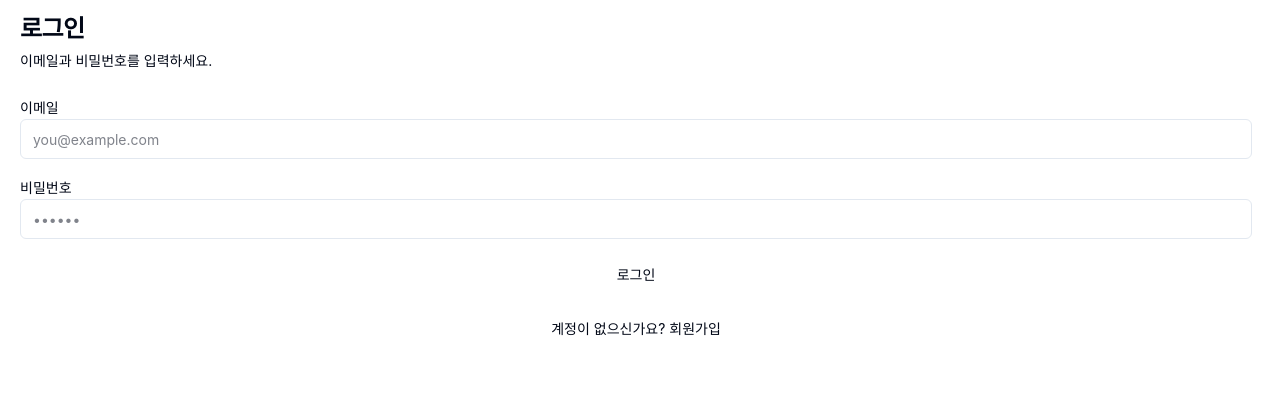
LoginPage › form validation › shows validation errors when submitted empty
Click the button "로그인".
click(636, 275)  # box [20,255,1252,295]
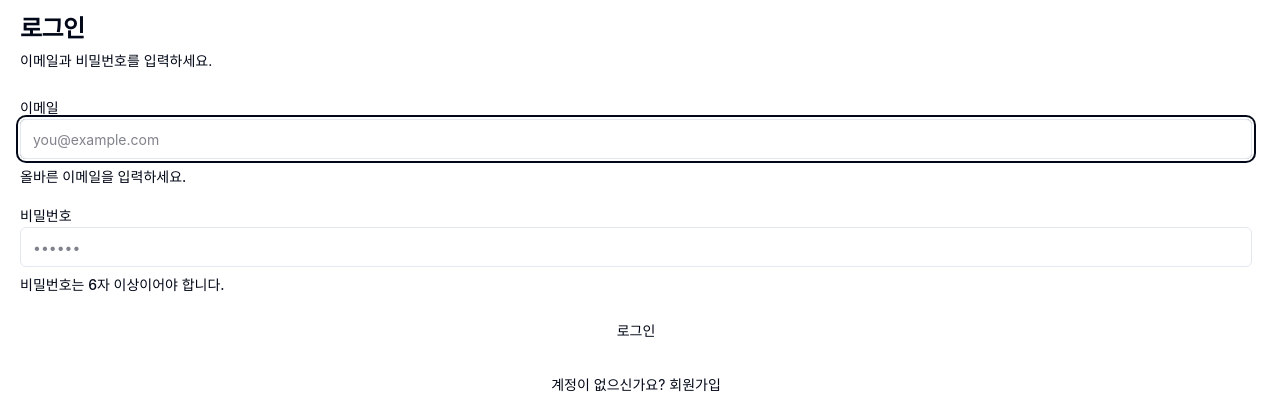
expect the text "올바른 이메일을 입력하세요." is shown: met, box [20,168,186,185]
